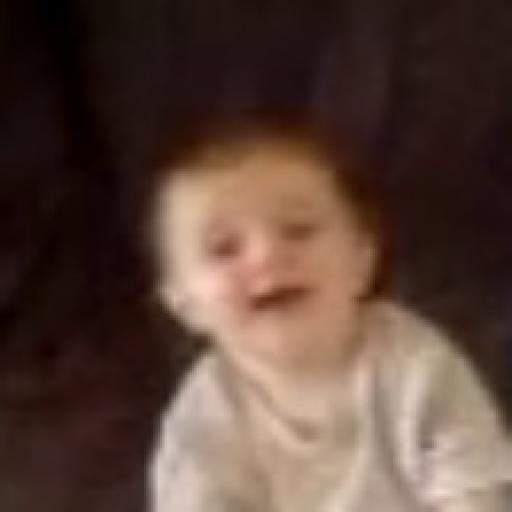Autism: (130, 142, 413, 402)
